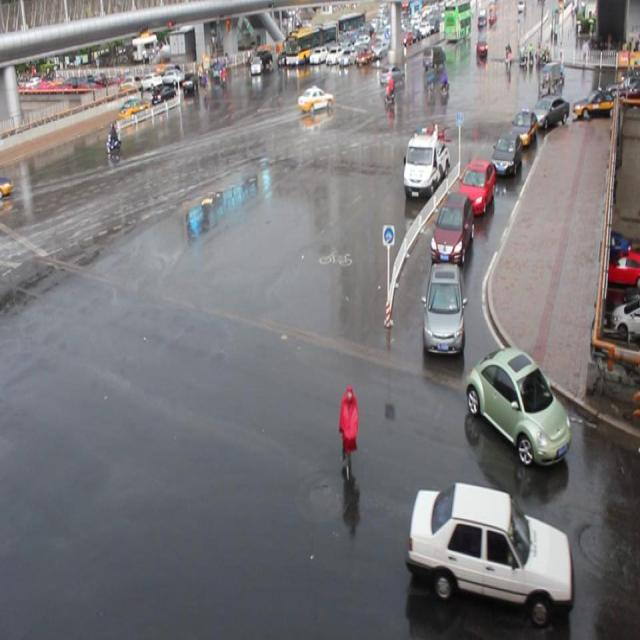bus: (401, 128, 448, 204)
car: (407, 481, 570, 622), (466, 346, 570, 463), (421, 262, 464, 355), (429, 192, 472, 263), (456, 158, 494, 212), (528, 94, 568, 130), (488, 130, 519, 176), (298, 84, 334, 113), (509, 109, 536, 147)
